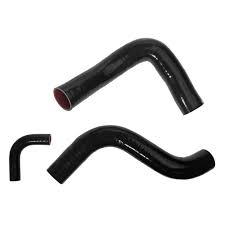radiator_hose: (53, 38, 204, 114), (50, 125, 216, 179)
